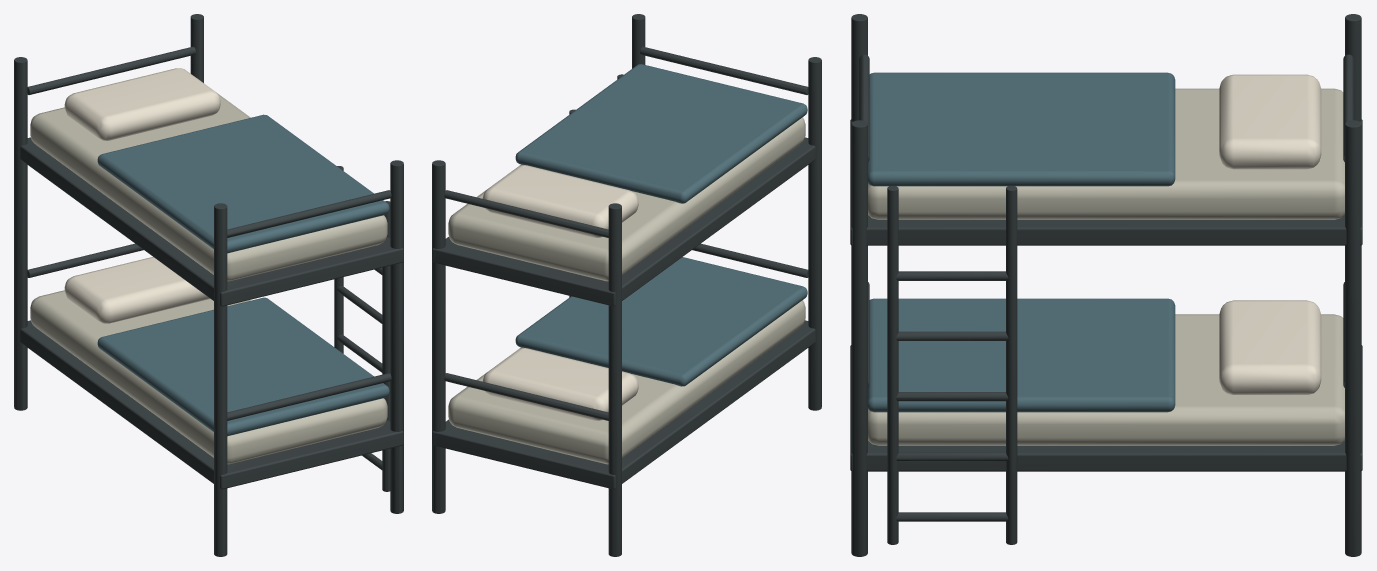
Rendered from P_BunkBed.fbx.
3 renders of one model, left to right at view 1: azimuth 30°, elevation 25°; view 2: azimuth 150°, elevation 25°; view 3: azimuth 270°, elevation 25°, orthographic. The views are drawn at different scales.
Visible parts, largest first — view 1: P_BunkBed; view 2: P_BunkBed; view 3: P_BunkBed.
Part boxes in pixels (bbox=[...]): P_BunkBed: bbox=[14, 14, 403, 556]; P_BunkBed: bbox=[432, 14, 821, 556]; P_BunkBed: bbox=[850, 14, 1362, 556].
Size of the model in its own units: 1.14 by 2 by 2.16.
